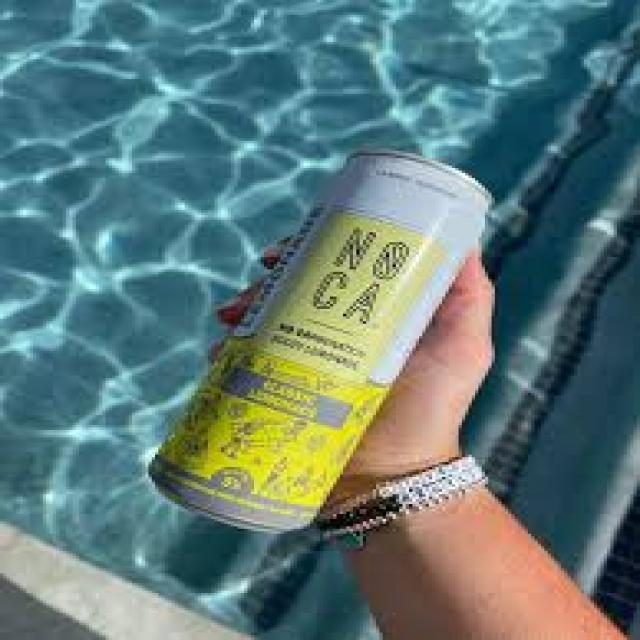Cans: (152, 138, 495, 544)
